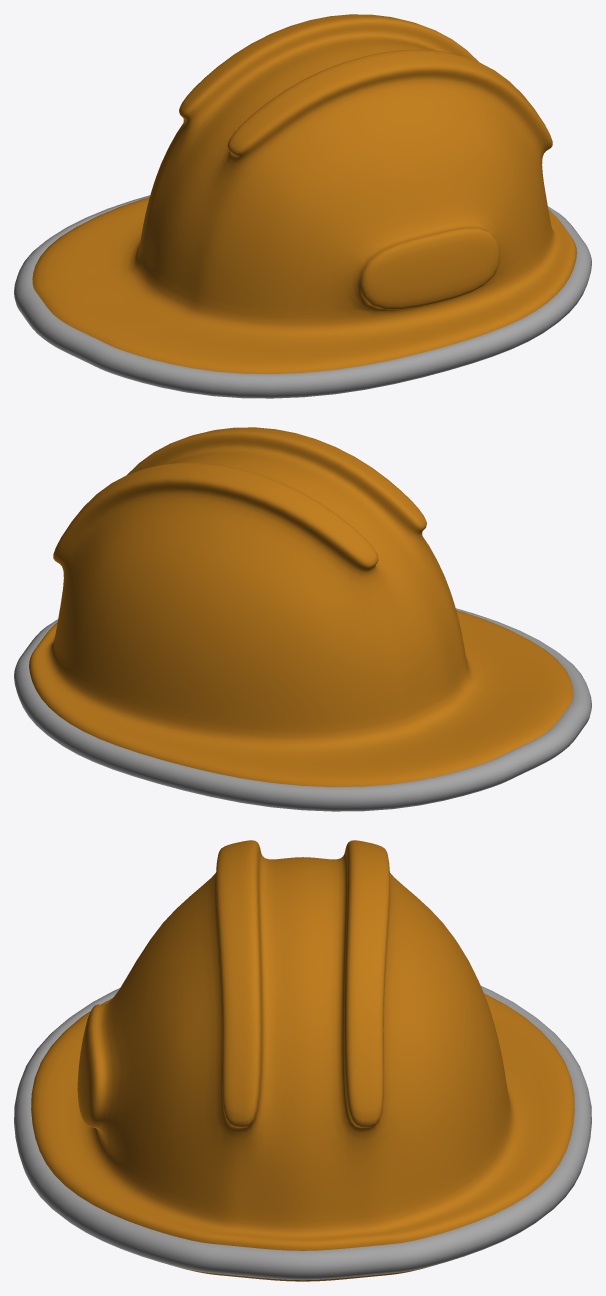
The model's file is helmet1-tBANsl22.glb.
The picture shows the model from 3 angles, top to bottom: view 1: azimuth 30°, elevation 25°; view 2: azimuth 150°, elevation 25°; view 3: azimuth 270°, elevation 25°; orthographic projection. The views are drawn at different scales.
Visible parts, largest first — view 1: Hard Hat; view 2: Hard Hat; view 3: Hard Hat.
Part boxes in pixels (box(x1,y1,x2,y2)): Hard Hat: box(14, 14, 591, 398); Hard Hat: box(14, 427, 591, 811); Hard Hat: box(14, 840, 591, 1281).
Size of the model in its own units: 2.38 by 1.08 by 1.91.
